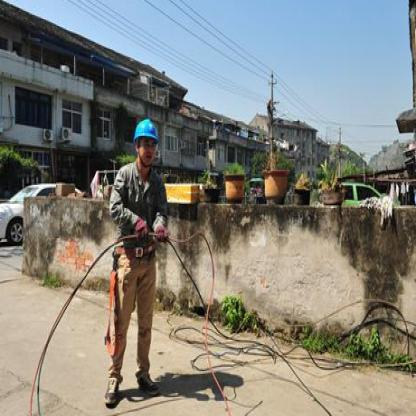helmet: (132, 113, 162, 170)
